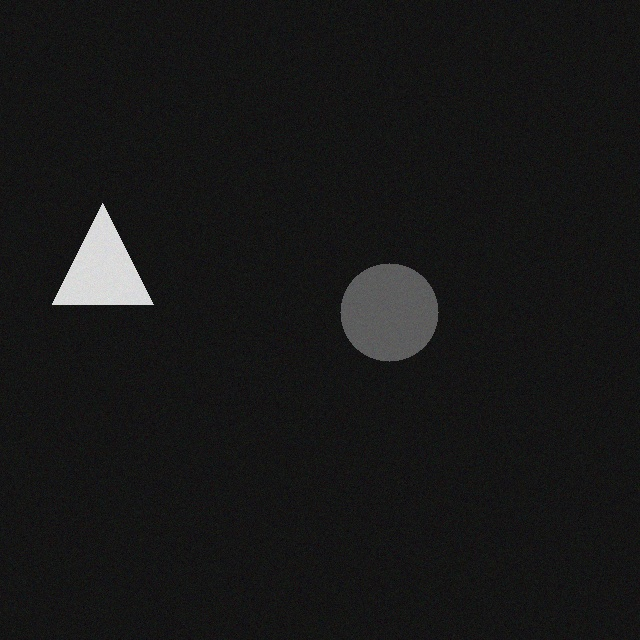circle: (335, 253, 433, 351)
triangle: (47, 193, 148, 294)
